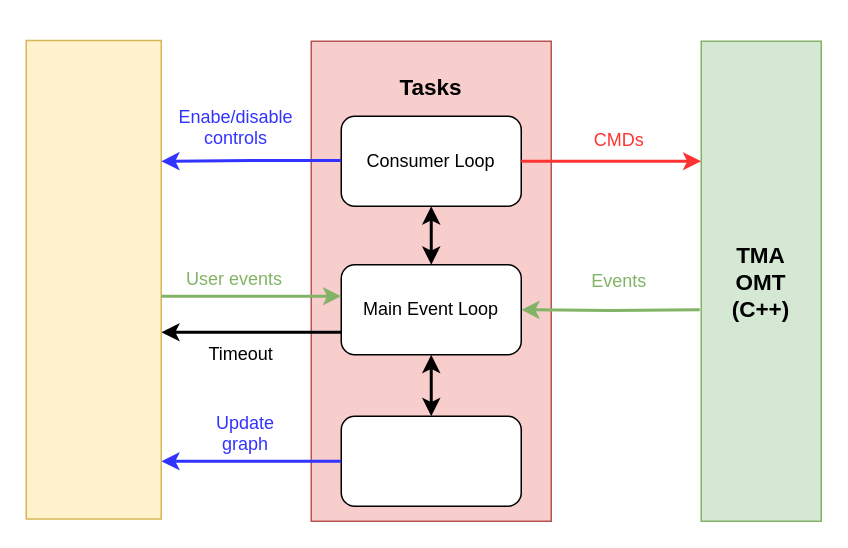
This 848x548 diagram has some shape labels left out. The centre of each missing label's shape, as x and y in pixels:
"HMI" goes at pixel 93 279.
"Update Graph Loop" goes at pixel 430 460.
